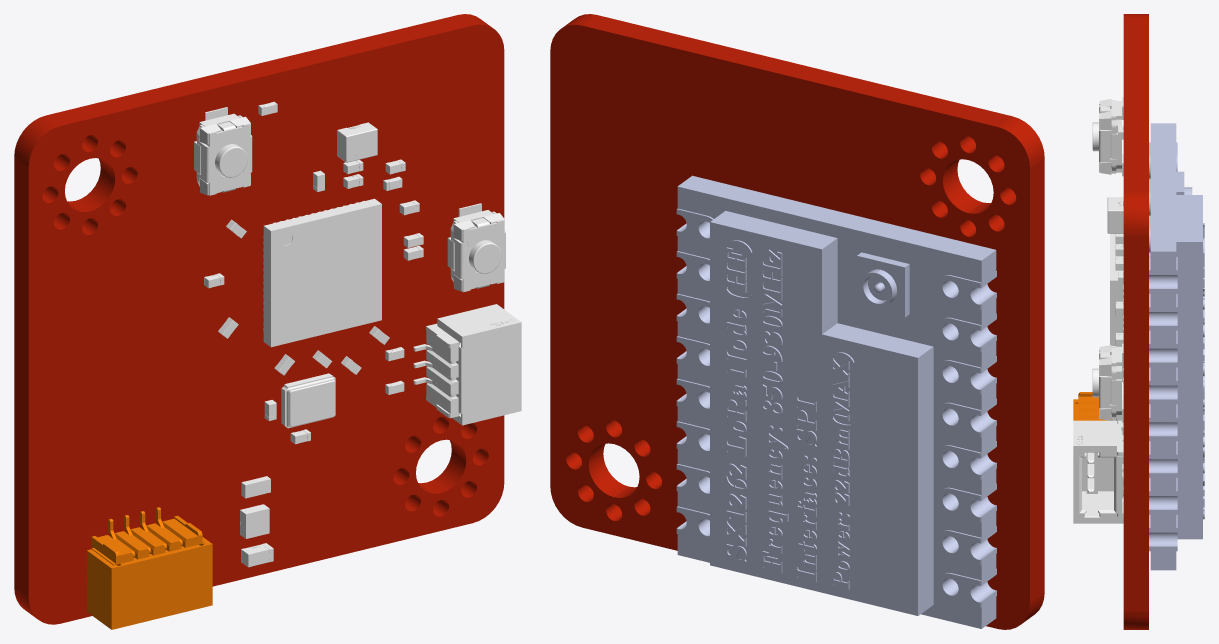
Rendered from MARV-RADIO-3D.glb.
3 renders of one model, left to right at view 1: azimuth 30°, elevation 25°; view 2: azimuth 150°, elevation 25°; view 3: azimuth 270°, elevation 25°, orthographic. The views are drawn at different scales.
Parts seen in each view (by area): view 1: MARV-RADIO-3D.step; view 2: MARV-RADIO-3D.step; view 3: MARV-RADIO-3D.step.
Boxes of the visible parts, x1,y1,x2,y2 form: MARV-RADIO-3D.step: [14, 14, 521, 629]; MARV-RADIO-3D.step: [550, 14, 1044, 629]; MARV-RADIO-3D.step: [1073, 14, 1204, 629].
Size of the model in its own units: 29.97 by 29.97 by 8.2.
